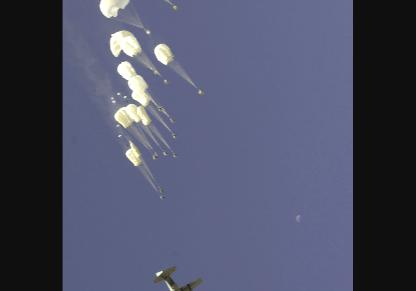Be200: (147, 263, 203, 290)
